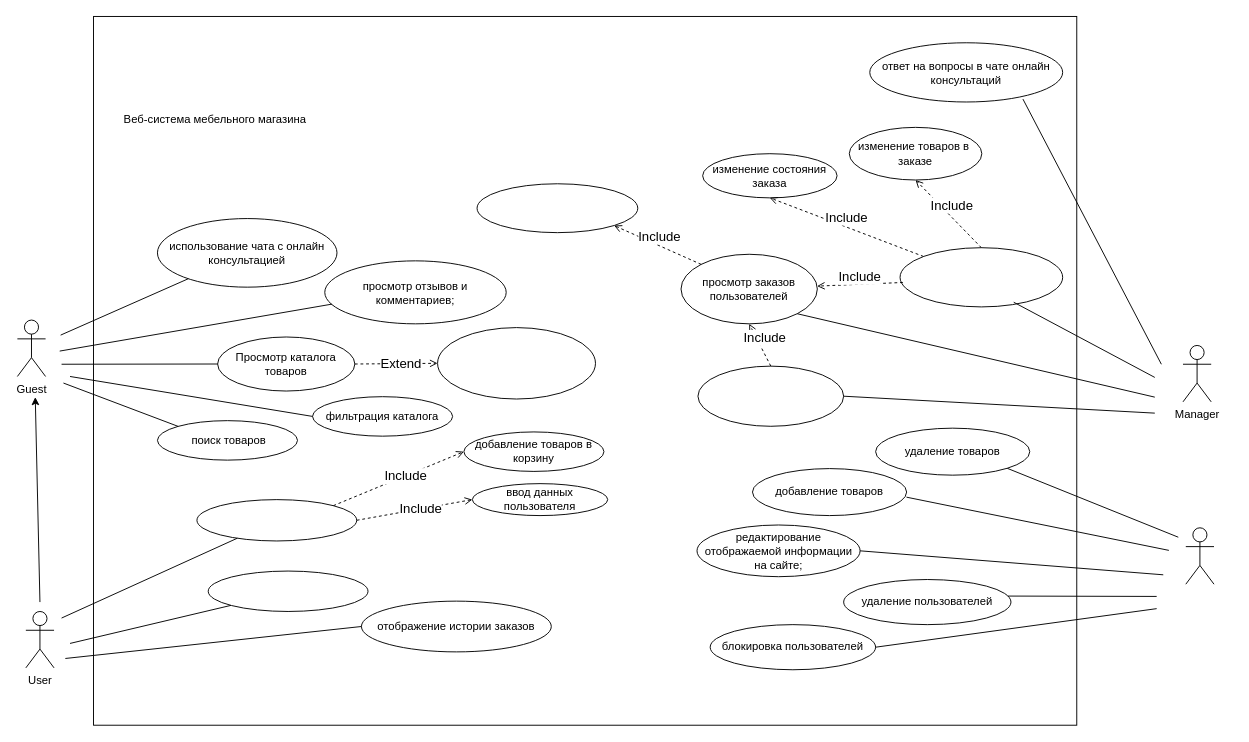
Some shapes in this 1249 by 742 pixel diagram are drawn without their labels. Each missing label, with the centre of its shape:
"Administrator" belongs at [1199,555].
"оформление заказов" belongs at [276,520].
"подтверждение заказов пользователей" belongs at [770,395].
"просмотр информации о пользователе" belongs at [557,208].
"просмотр подробной информации о товаре" belongs at [516,363].
"редактирование заказов пользователей" belongs at [981,277].
"Управление аккаунтом" belongs at [287,590].
